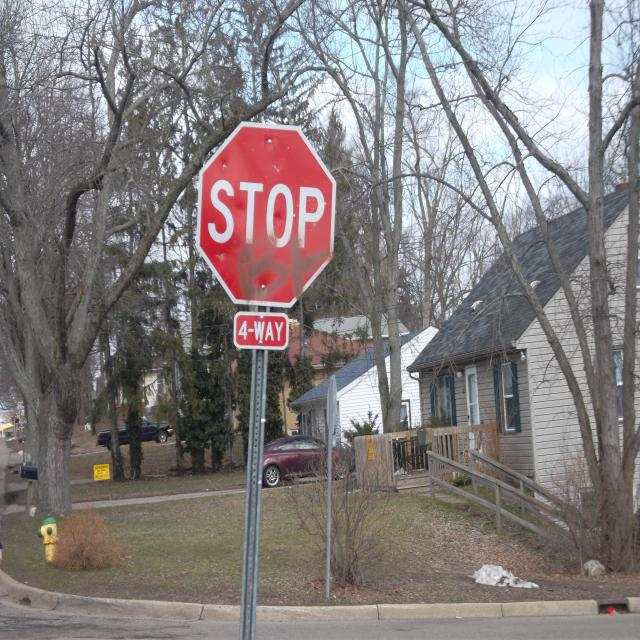regulatory: (21, 417, 27, 424), (17, 402, 22, 408)
stop: (192, 119, 337, 312)
